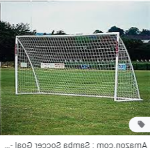goals: (14, 31, 143, 102)
